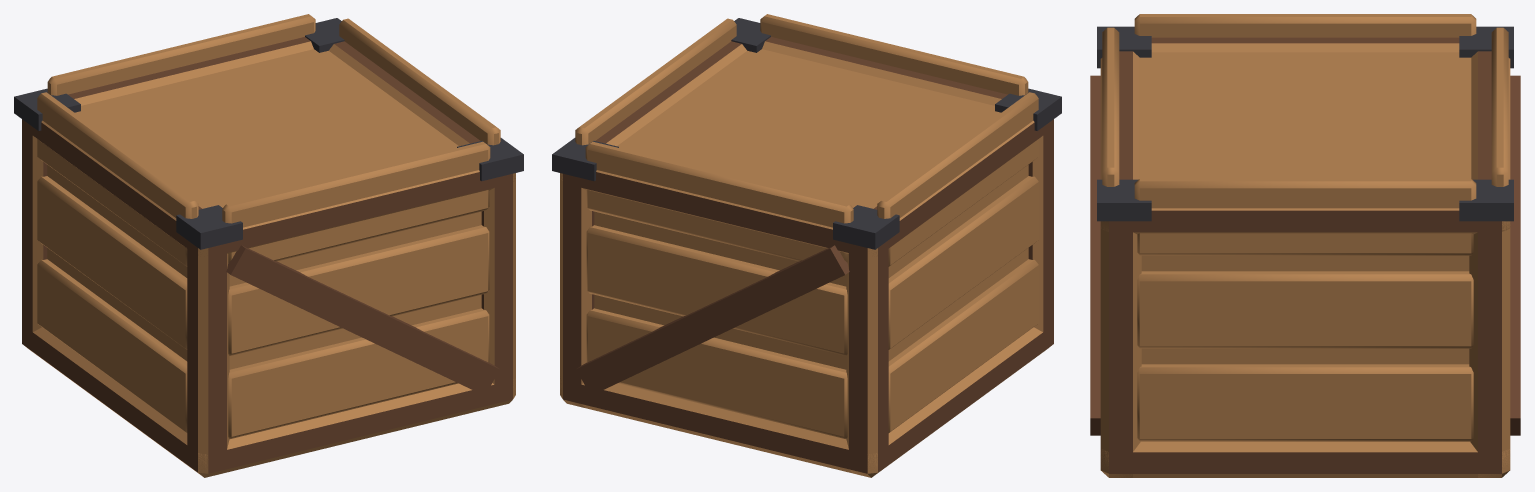
The model's file is tide_crate.glb.
The picture shows the model from 3 angles, left to right: view 1: azimuth 30°, elevation 25°; view 2: azimuth 150°, elevation 25°; view 3: azimuth 270°, elevation 25°; orthographic projection. The views are drawn at different scales.
Parts seen in each view (by area): view 1: tide_crate; view 2: tide_crate; view 3: tide_crate.
Part boxes in pixels (left/top/right/bottom): tide_crate: left=14, top=14, right=523, bottom=477; tide_crate: left=552, top=14, right=1061, bottom=477; tide_crate: left=1090, top=14, right=1520, bottom=477.
Bounding box in the file's own units: 1.22 × 0.96 × 1.26.
